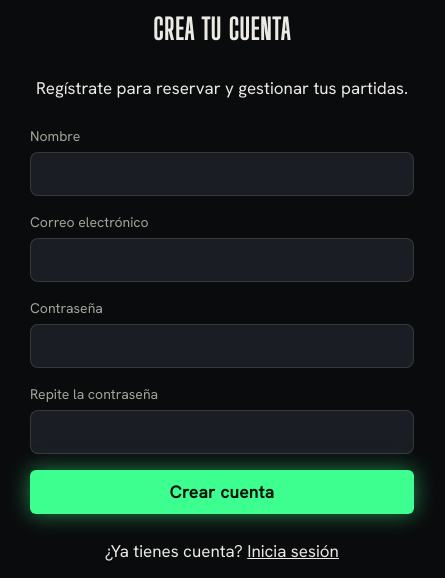
RegisterPage › when Supabase needs the email confirmed it says so instead of redirecting
Type "Ana" into the field labelled "Nombre". click: (222, 174)
box: [30,152,414,196]
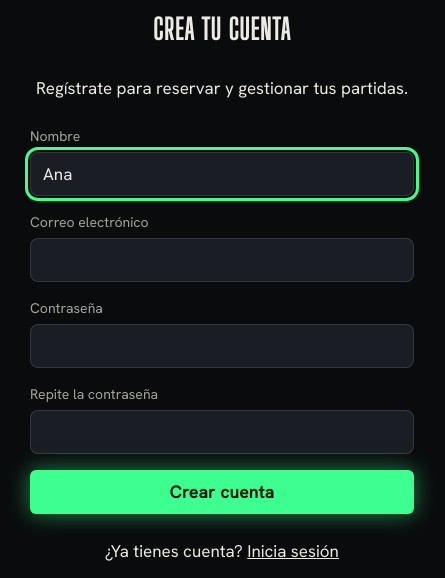
Type "ana@example.com" into the field labelled "Correo electrónico". click: (222, 260)
box: [30,238,414,282]
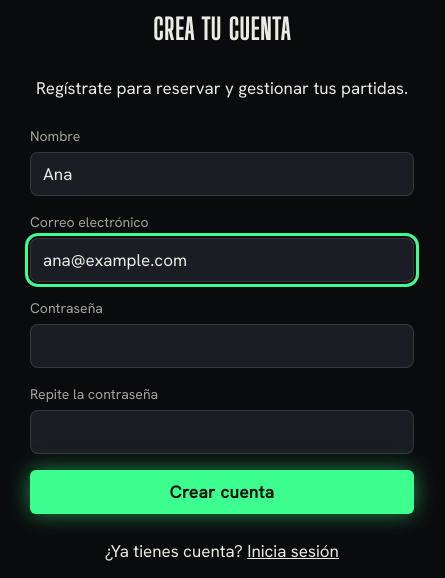
Type "secreto123" into the password field labelled "Contraseña". click: (222, 346)
box: [30,324,414,368]
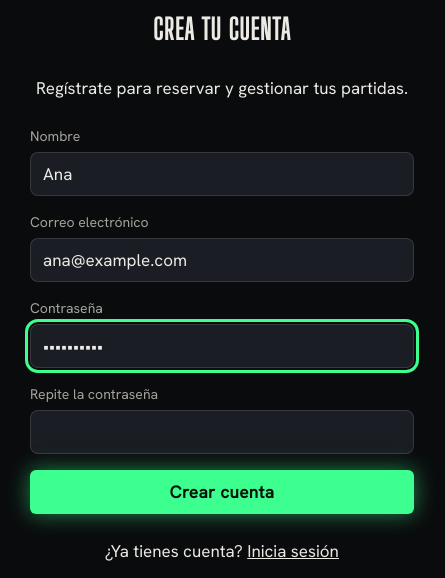
Type "secreto123" into the password field labelled "Repite la contraseña". click: (222, 432)
box: [30,410,414,454]
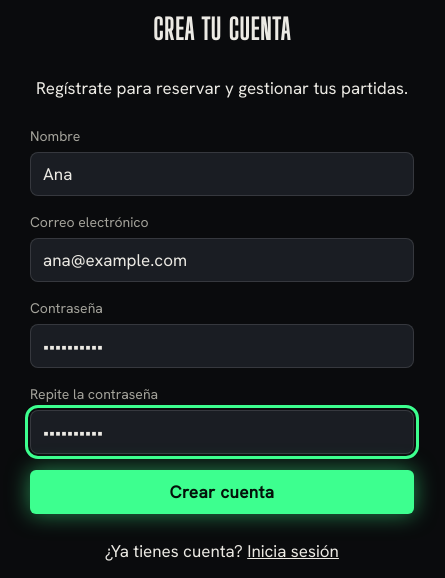
Click the button "Crear cuenta". click: (222, 492)
box: [30,470,414,514]
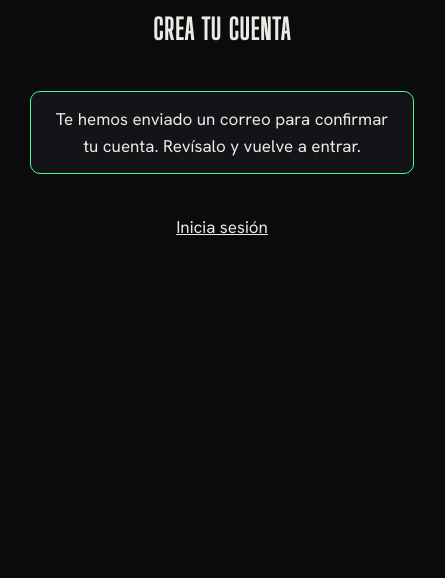
Result: the message reads "Te hemos enviado un correo para confirmar tu cuenta. Revísalo y vuelve a entrar." at [56,108,388,157]
